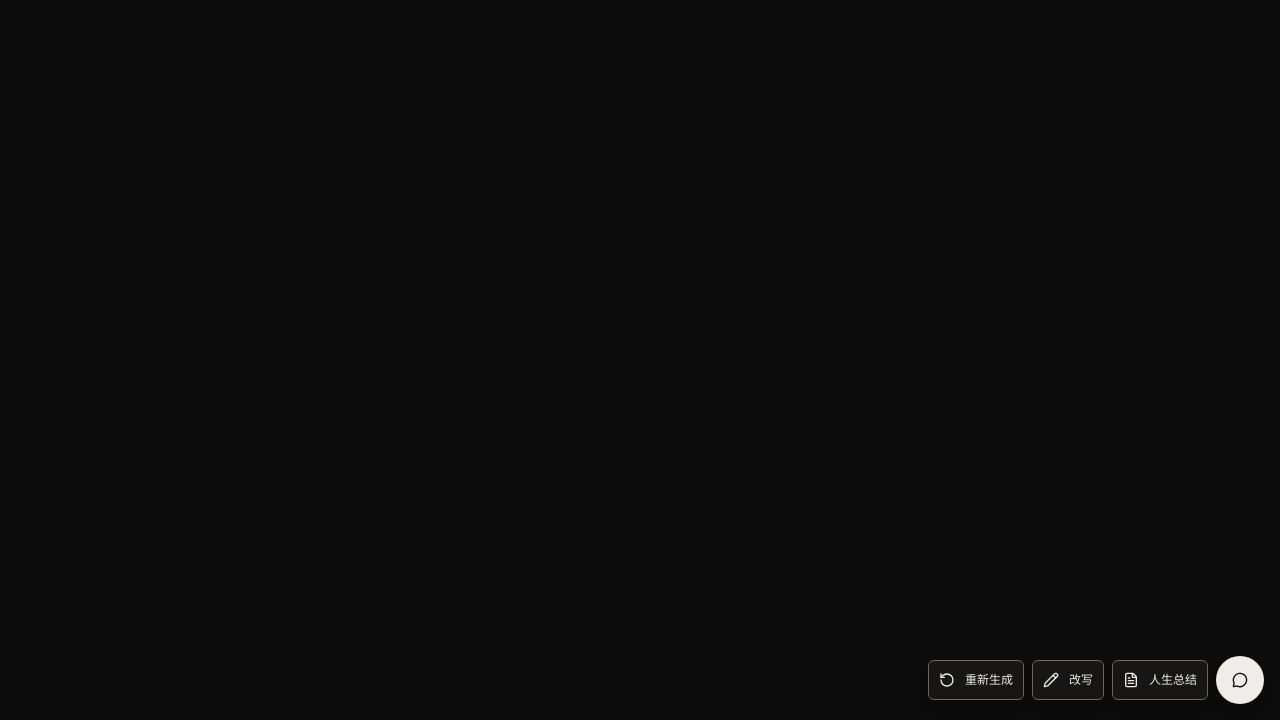
Scenario: ChatBar › Collapsed state › clears summary loading and displays a retryable error when the request aborts
Click the button "人生总结": (1160, 680) [1112,660,1208,700]
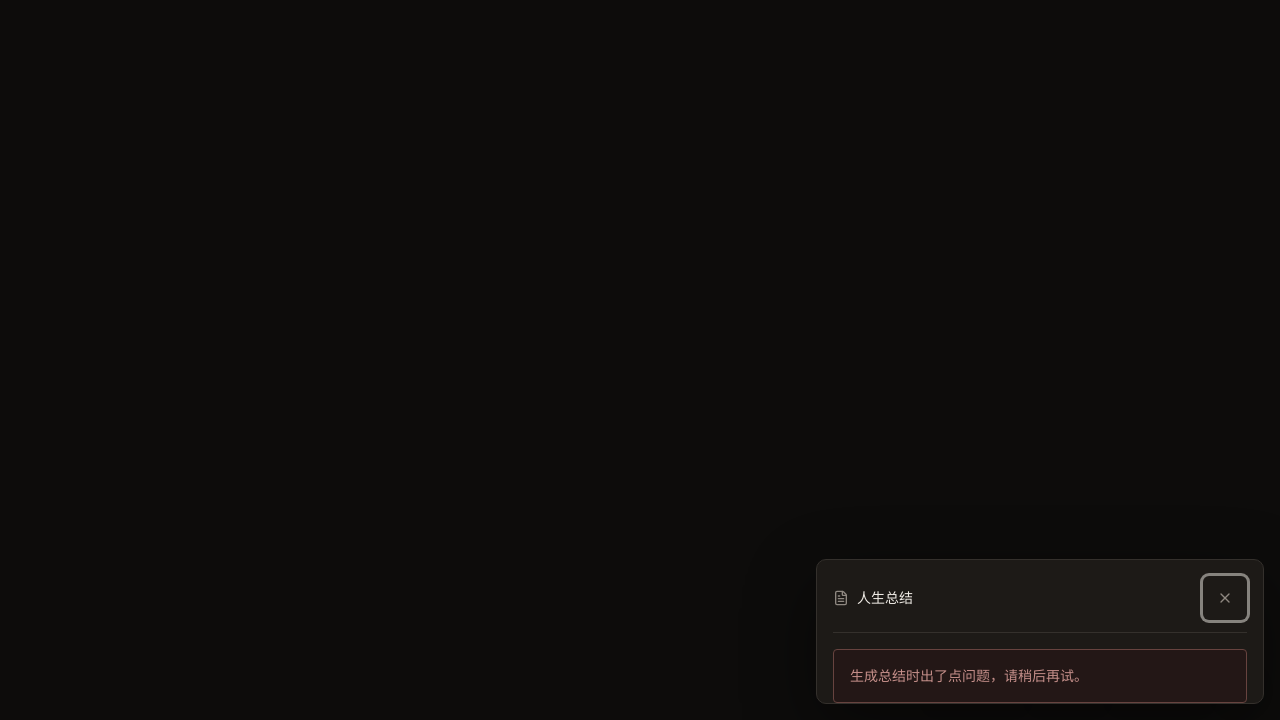
Now the text "生成总结时出了点问题，请稍后再试。" is shown, box [850,667,1088,684]
